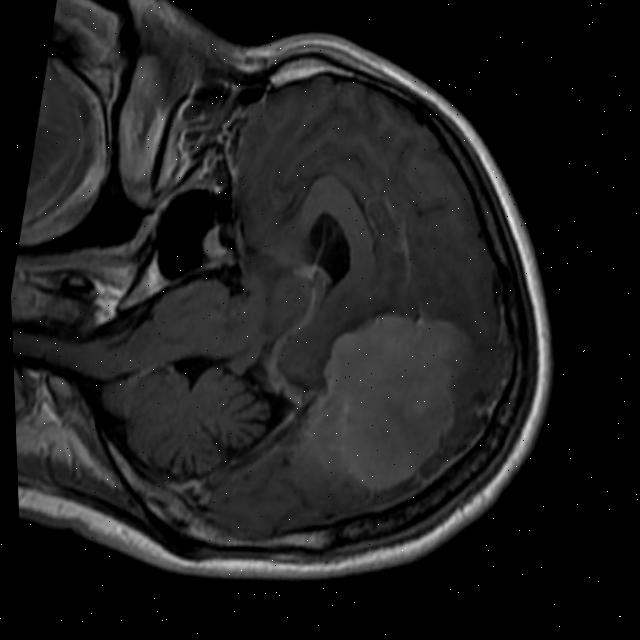Meningioma: (288, 295, 483, 510)
Pituitary: (195, 220, 236, 263)
